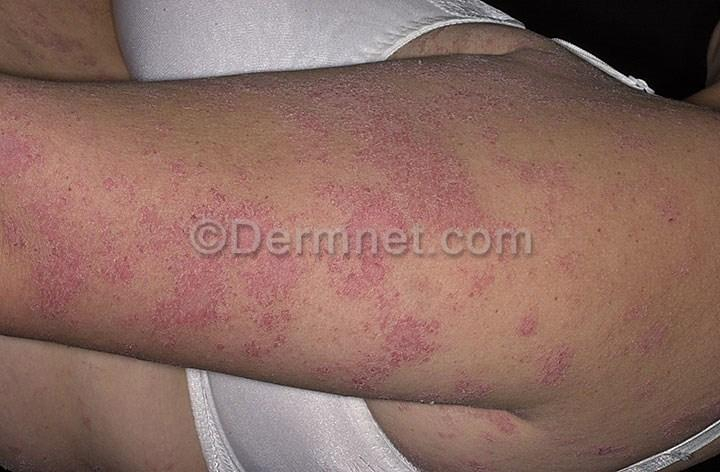Eczema: (215, 75, 447, 237), (2, 90, 215, 231), (0, 228, 186, 348), (192, 246, 359, 359), (453, 178, 584, 311), (443, 54, 558, 179), (361, 261, 486, 376)
